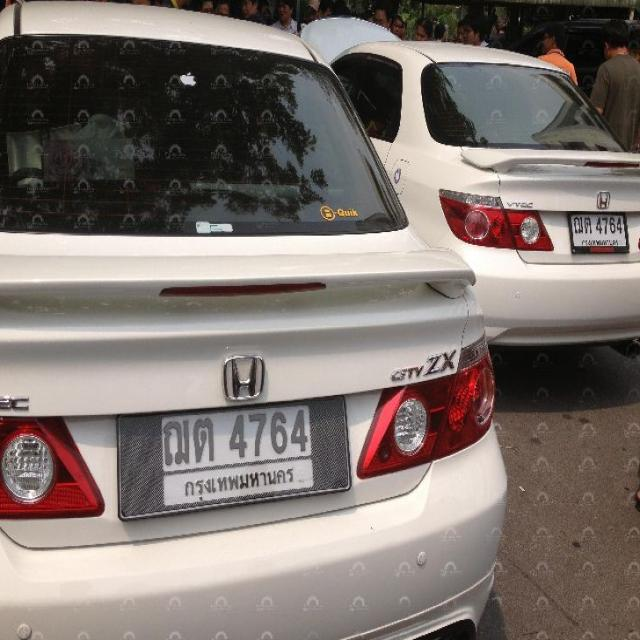license_plate: (117, 393, 351, 520), (567, 209, 630, 252)
